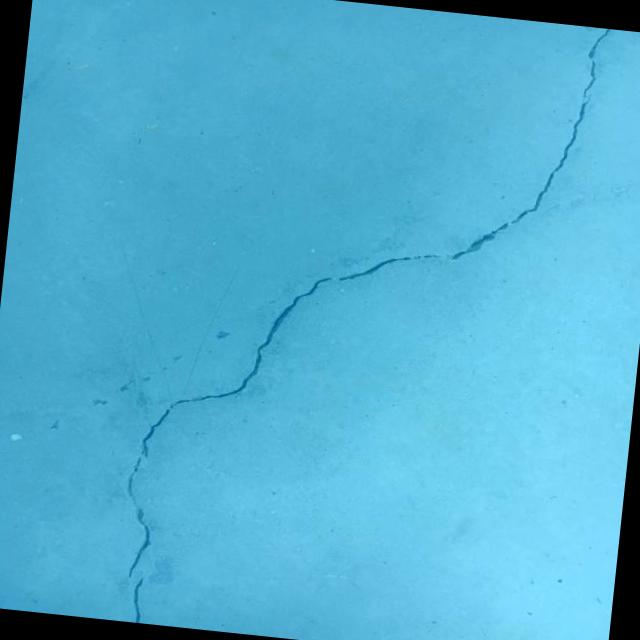crack: (338, 3, 612, 306), (116, 258, 333, 596), (130, 576, 145, 623)
